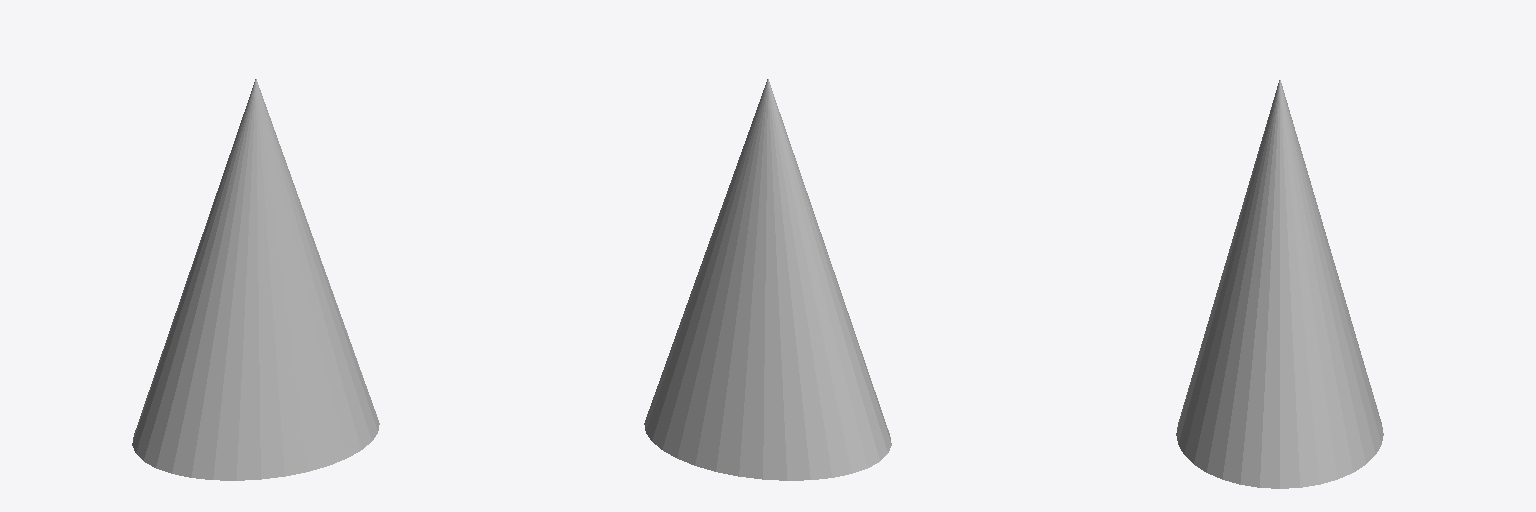
Rendered from partyhat.obj.
3 views of the same model, side by side, from view 1: azimuth 30°, elevation 25°; view 2: azimuth 150°, elevation 25°; view 3: azimuth 270°, elevation 25° (orthographic).
Parts seen in each view (by area): view 1: Cone; view 2: Cone; view 3: Cone.
Boxes of the visible parts, box(x1,y1,x2,y2) form: Cone: box(132, 79, 379, 480); Cone: box(644, 79, 891, 480); Cone: box(1176, 80, 1383, 488).
Bounding box in the file's own units: 0.6824 × 1.03 × 0.5454.